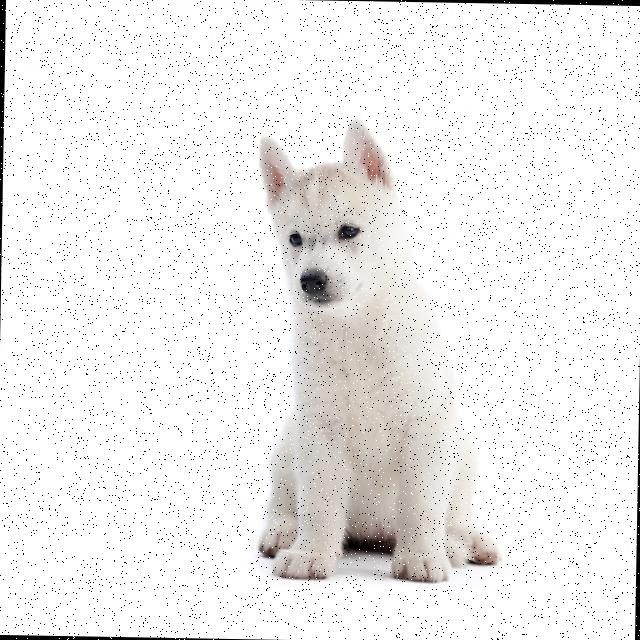Dog: (253, 118, 508, 582)
